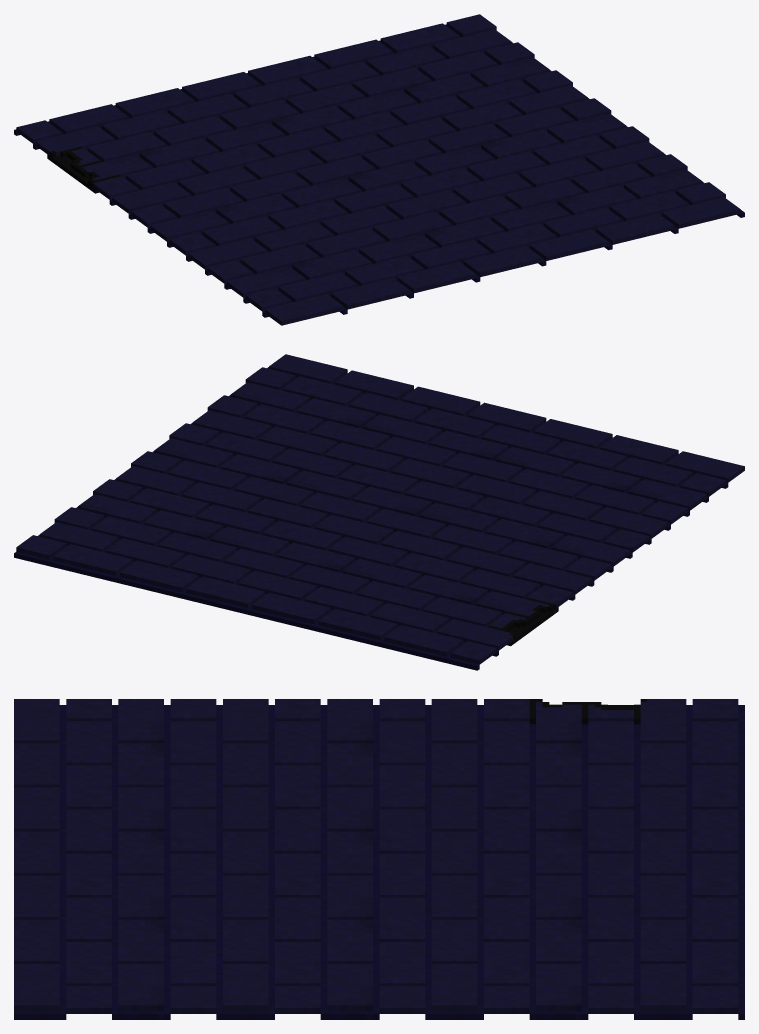
Rendered from flooring_prophet-4.obj.
The picture shows the model from 3 angles, top to bottom: view 1: azimuth 30°, elevation 25°; view 2: azimuth 150°, elevation 25°; view 3: azimuth 270°, elevation 25°; orthographic projection. The views are drawn at different scales.
Bounding box in the file's own units: 11.2 × 0.2 × 11.2.
